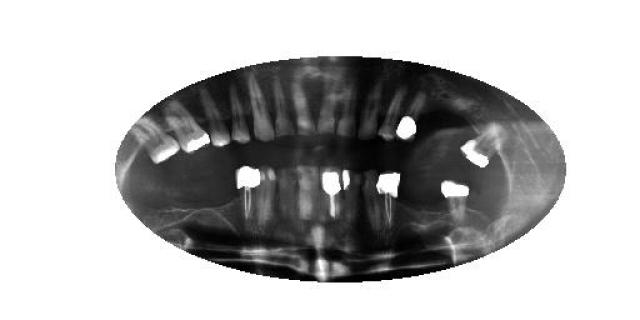Fillings: (162, 99, 212, 155), (458, 126, 504, 169), (395, 89, 426, 142), (440, 179, 470, 226), (341, 169, 360, 225)
Implant: (232, 164, 258, 228), (376, 170, 402, 229), (320, 165, 340, 225)
